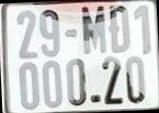-: (65, 29, 78, 39), (90, 93, 101, 102)
0: (19, 62, 41, 110), (42, 61, 64, 108), (66, 58, 88, 105), (127, 57, 146, 105)
1: (135, 5, 151, 55)
2: (15, 10, 39, 60), (102, 56, 125, 105)
9: (40, 10, 61, 58)
D: (108, 6, 130, 53)
M: (81, 5, 107, 55)
